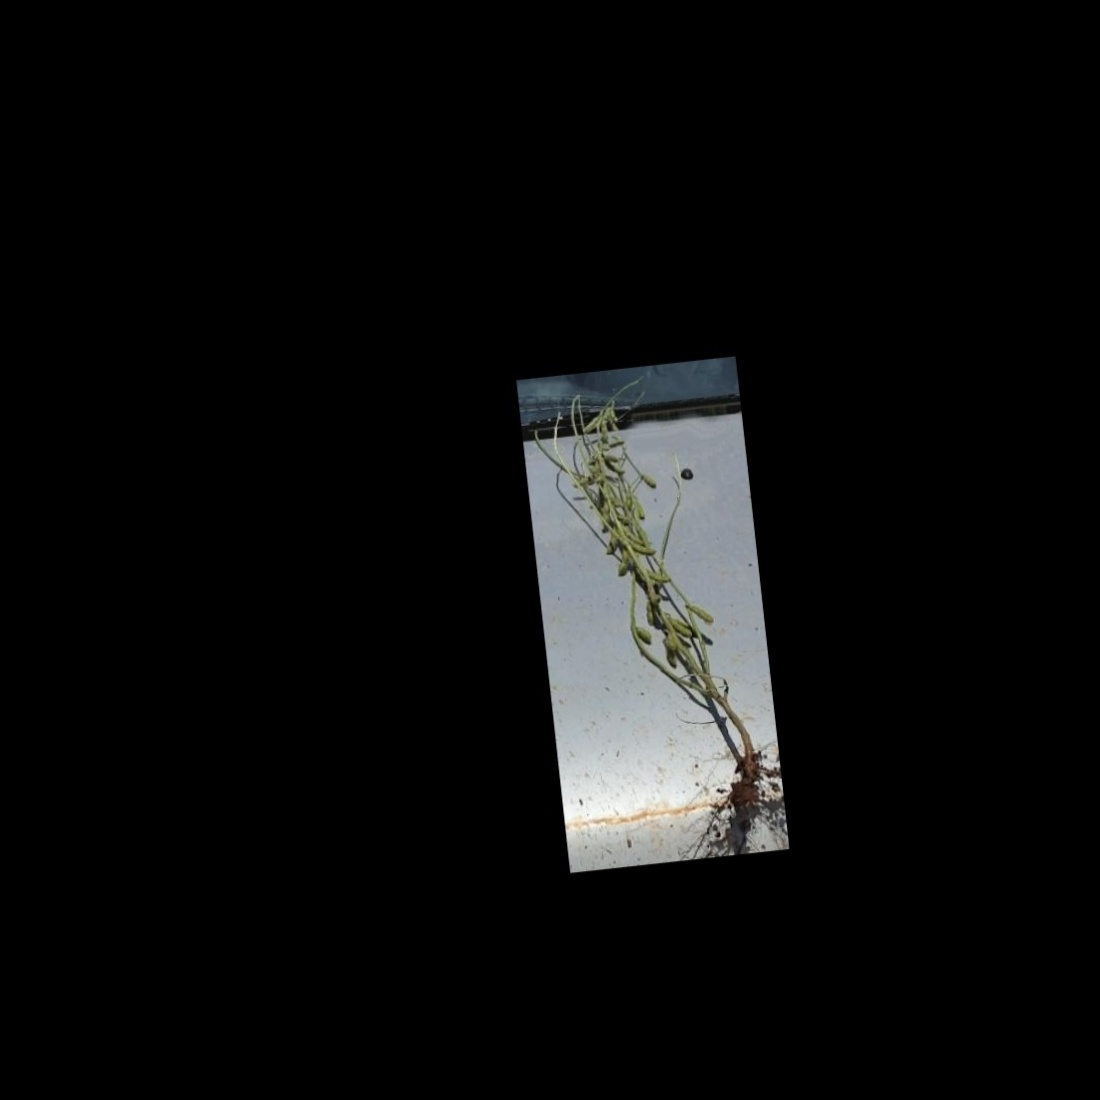pod: (685, 599, 714, 626), (668, 617, 695, 641), (642, 565, 673, 585), (630, 621, 653, 647), (616, 548, 630, 577), (639, 471, 658, 490)
soy: (520, 365, 778, 832)
